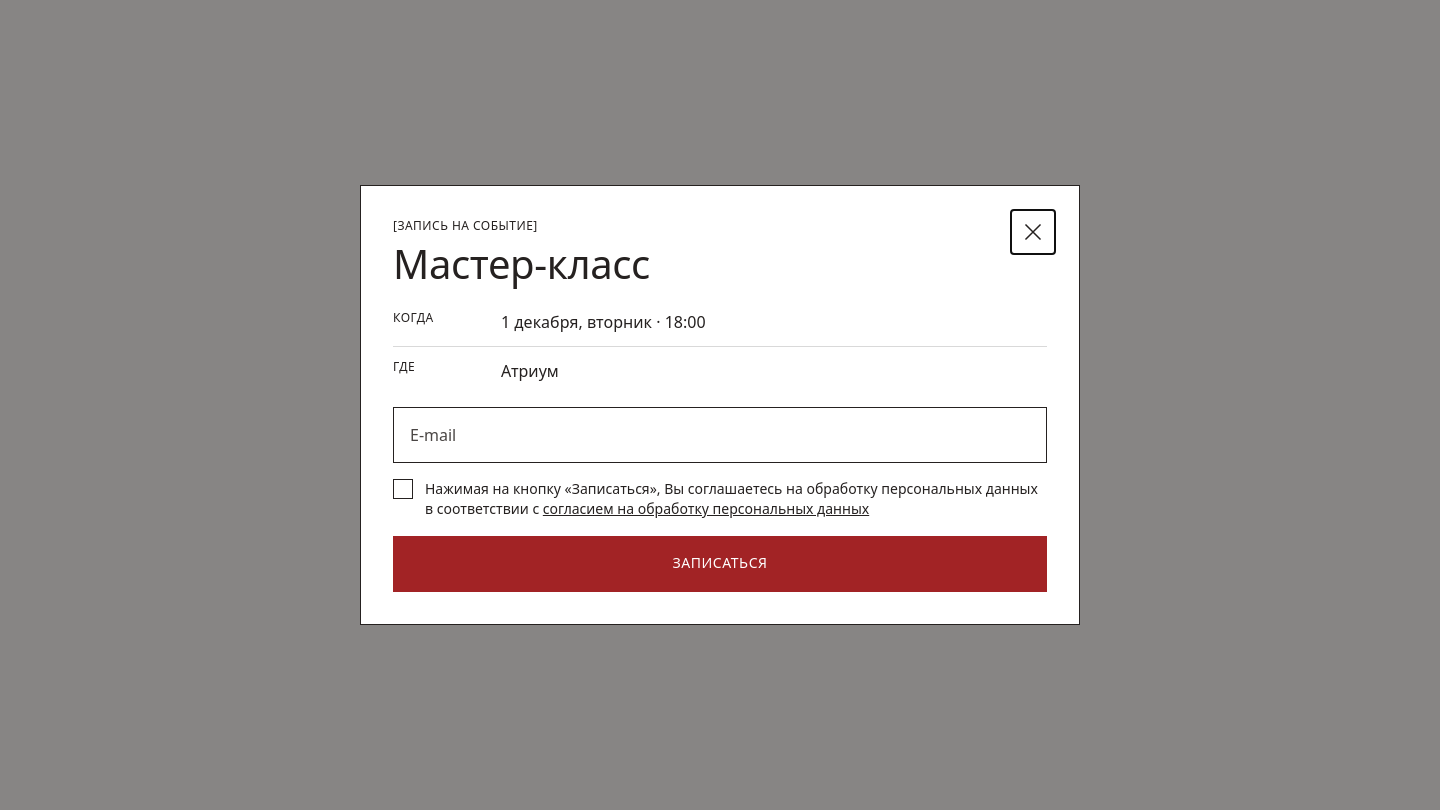
it: запись на событие › без согласия форма не отправляется
The image size is (1440, 810).
Type "a@b.co" into the field labelled "E-mail" at (720,435), box [393,407,1047,463]
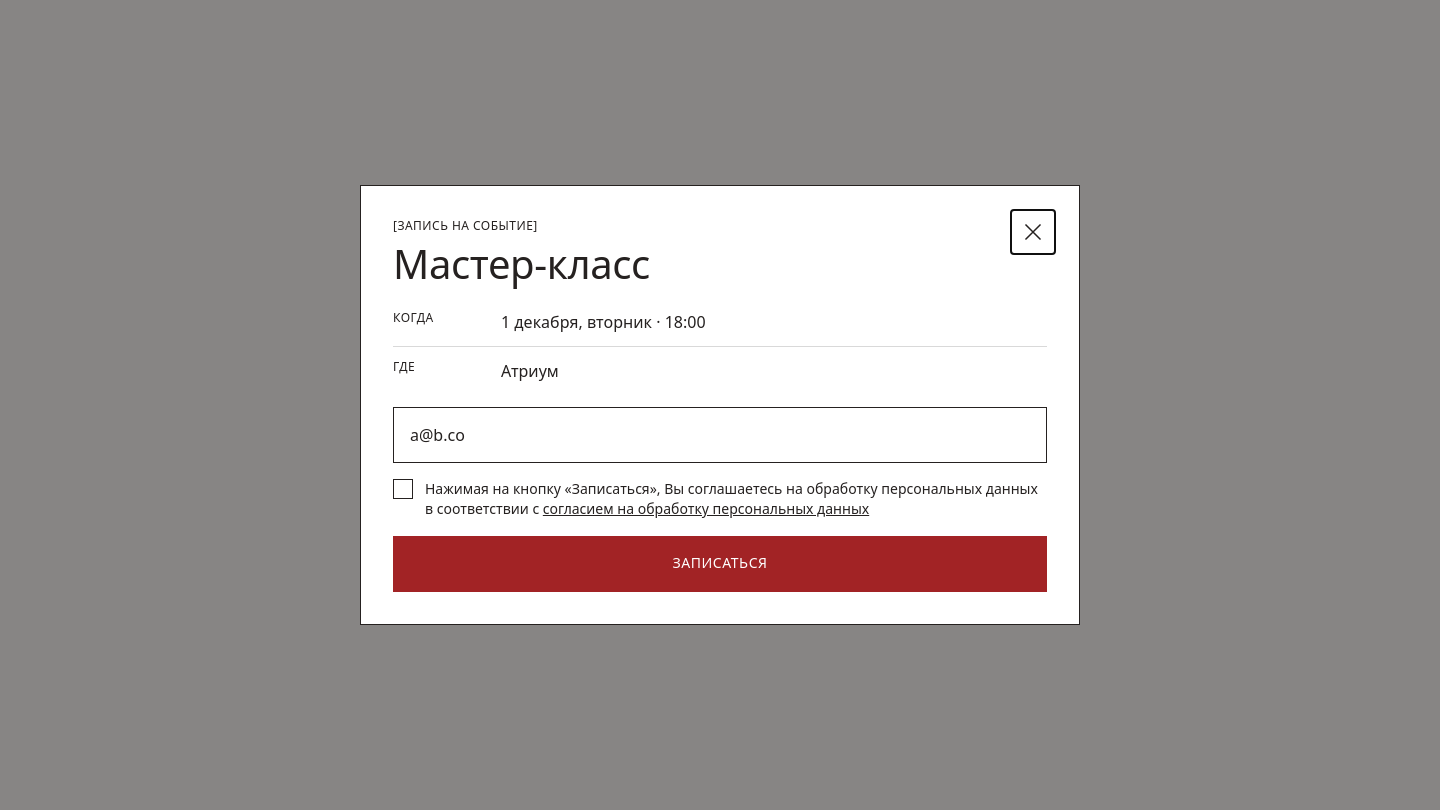
Click the button "Записаться" at (720,564), box [393,536,1047,592]
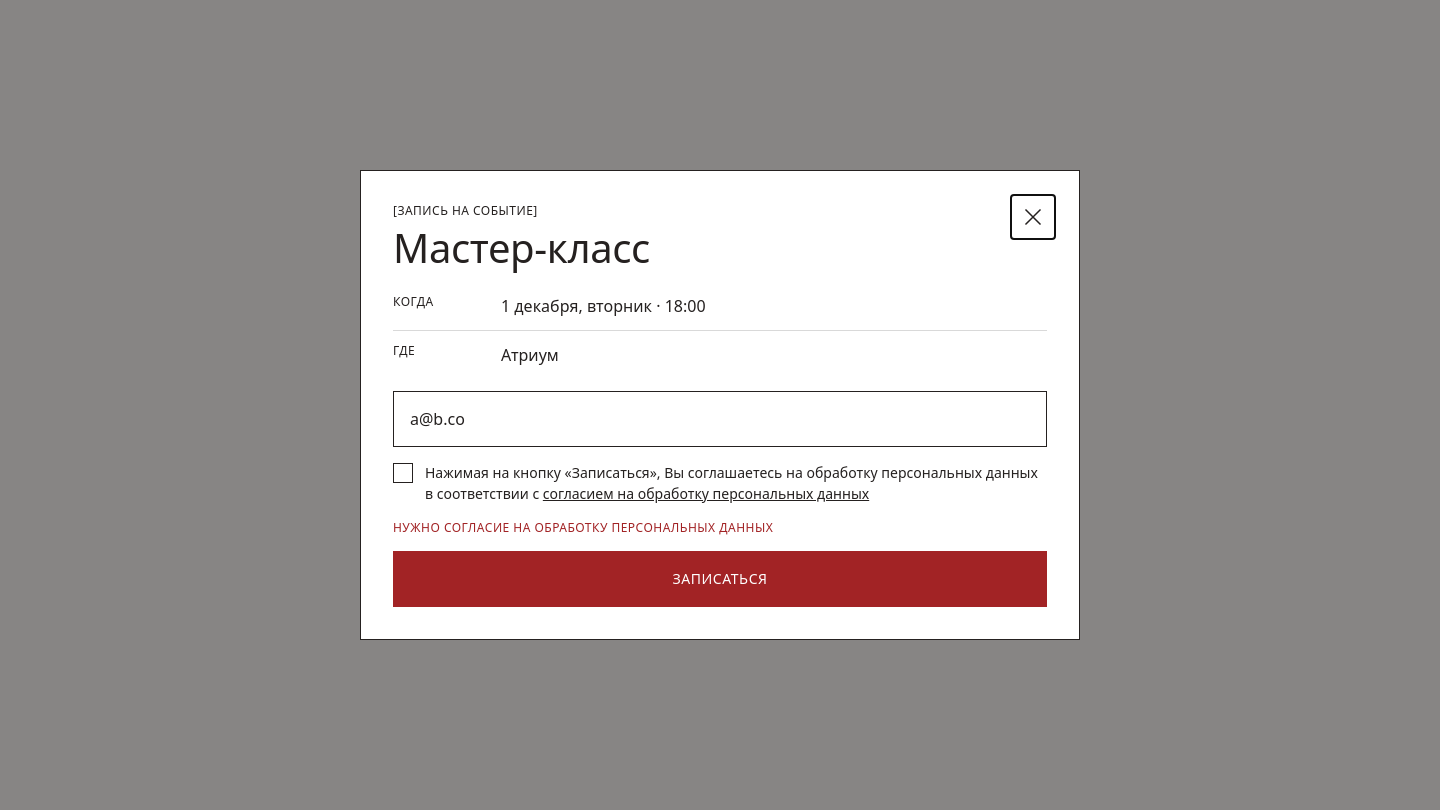
Check: the message "Нужно согласие на обработку персональных данных" is shown, box [393,519,773,536]
